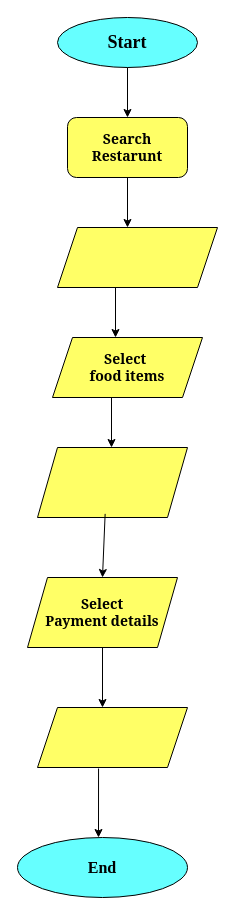
This 235x915 diagram has some shape labels left out. Each missing label, with the centre of its shape:
Deliverd order: point (112, 737)
Order Confirmation: point (112, 482)
Select Restarunt: point (137, 257)
